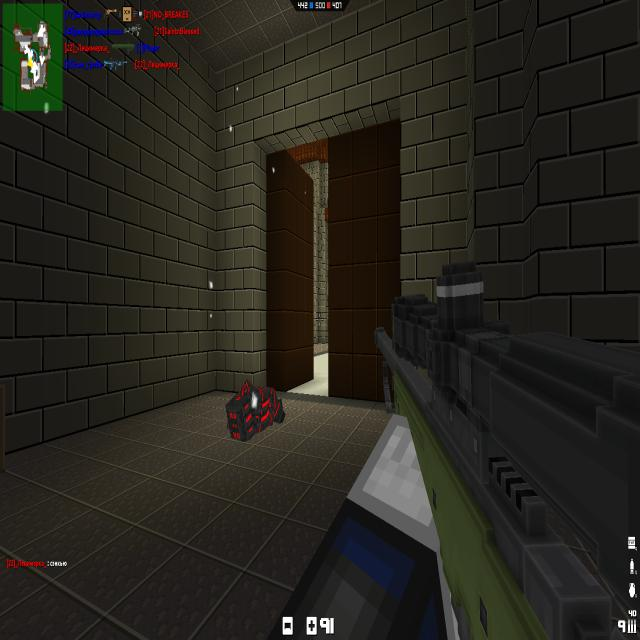player: (226, 383, 286, 441)
